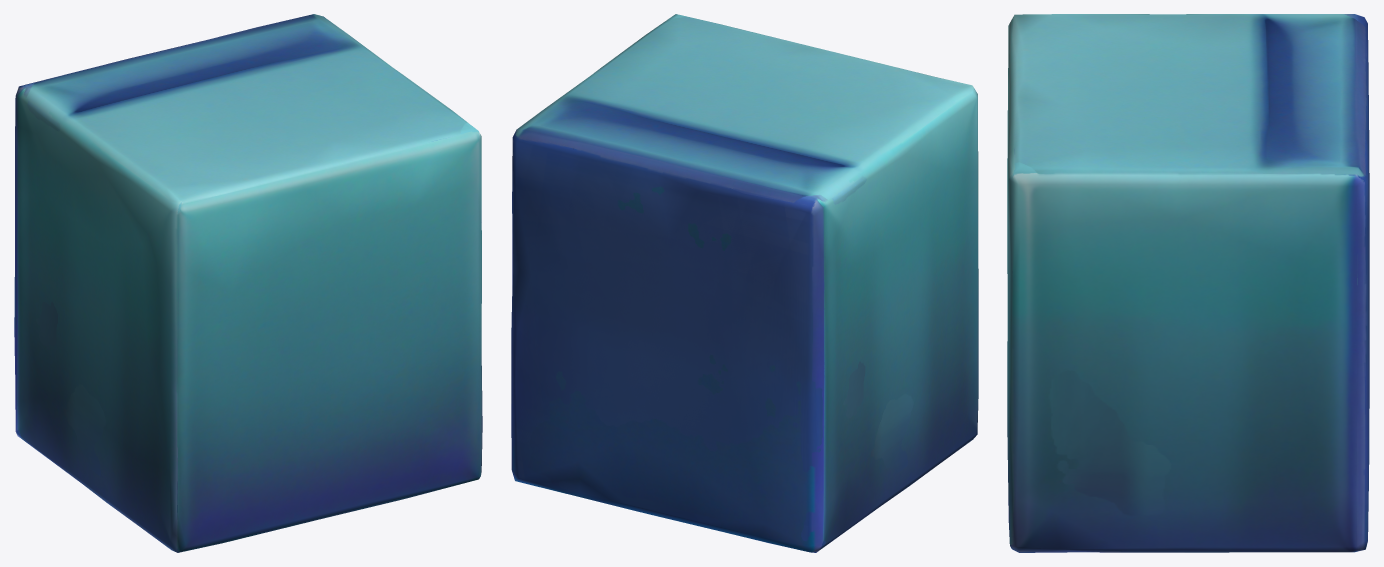
File: BackgroundPlane.fbx
3 renders of one model, left to right at view 1: azimuth 30°, elevation 25°; view 2: azimuth 150°, elevation 25°; view 3: azimuth 270°, elevation 25°, orthographic. The views are drawn at different scales.
Visible parts, largest first — view 1: Mesh1.0; view 2: Mesh1.0; view 3: Mesh1.0.
Part boxes in pixels (box(x1,y1,x2,y2)): Mesh1.0: box(14, 14, 482, 552); Mesh1.0: box(511, 14, 978, 552); Mesh1.0: box(1007, 14, 1369, 552).
Size of the model in its own units: 185 by 201 by 172.
Materials: 1 (1 with a texture image).
